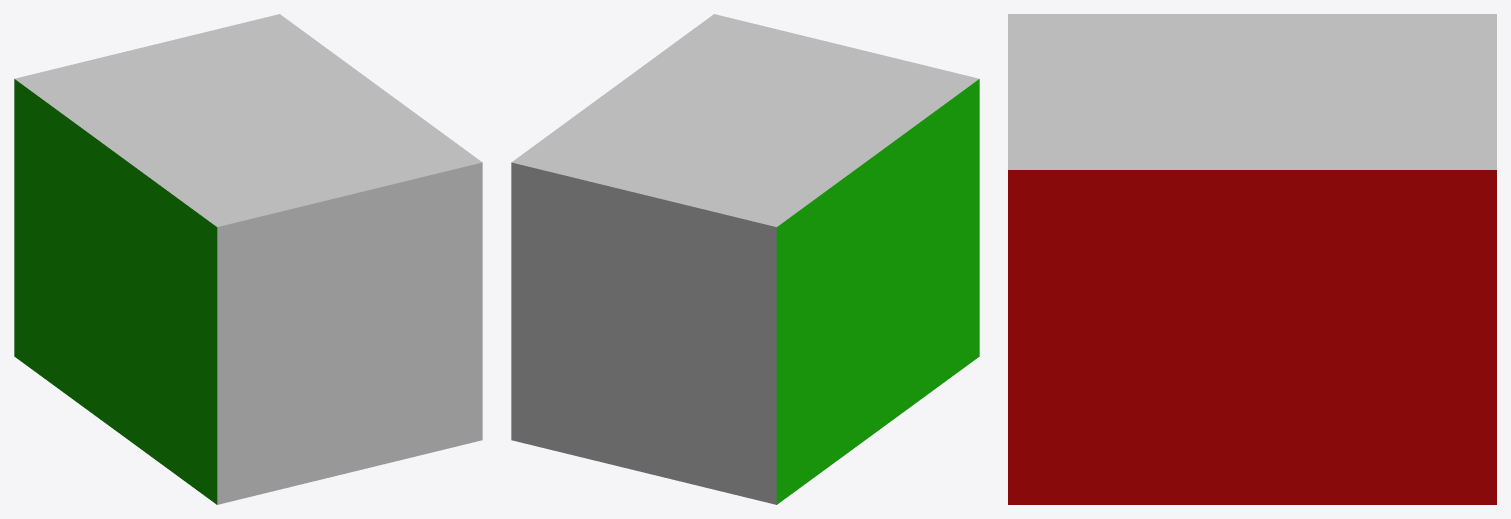
The model's file is pkbox.dae.
3 views of the same model, side by side, from view 1: azimuth 30°, elevation 25°; view 2: azimuth 150°, elevation 25°; view 3: azimuth 270°, elevation 25° (orthographic). The views are drawn at different scales.
Parts seen in each view (by area): view 1: Cube, RightWall; view 2: Cube, RightWall; view 3: LeftWall, Cube.
Boxes of the visible parts, bbox=[...] form: Cube: bbox=[14, 14, 482, 504]; RightWall: bbox=[14, 79, 217, 504]; Cube: bbox=[511, 14, 979, 504]; RightWall: bbox=[776, 79, 979, 504]; LeftWall: bbox=[1008, 170, 1496, 504]; Cube: bbox=[1008, 14, 1496, 169].
Bounding box in the file's own units: 605 × 800 × 605.
